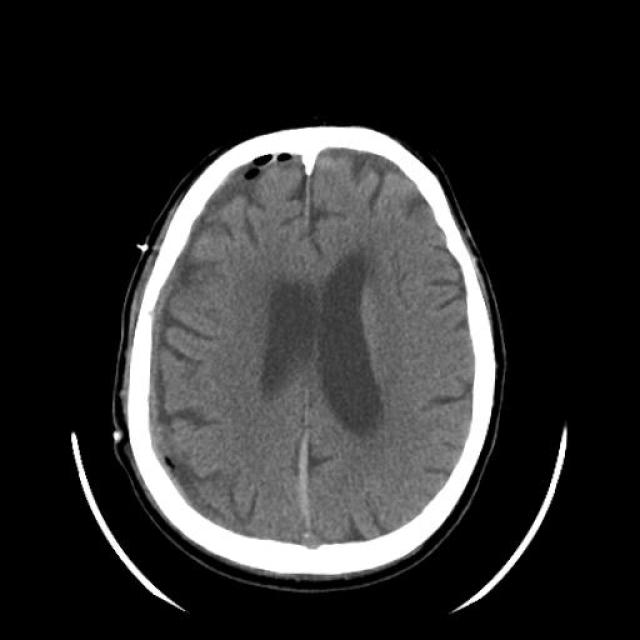Subdural: (264, 432, 350, 553)
